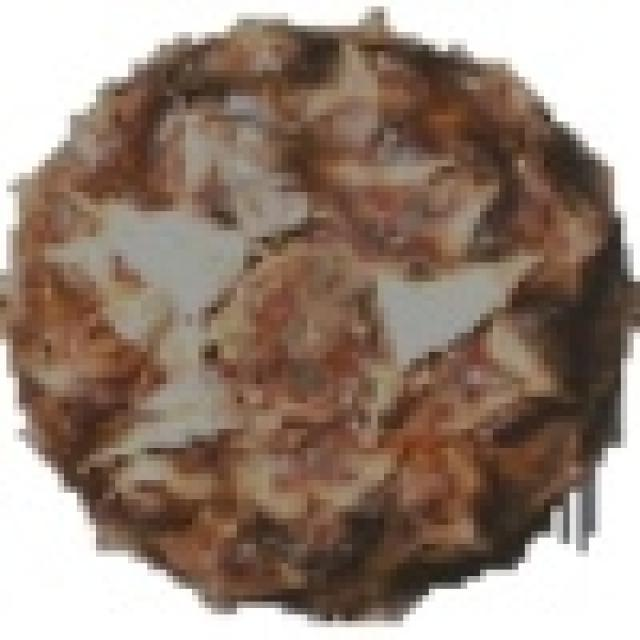pineapple: (13, 6, 614, 602)
